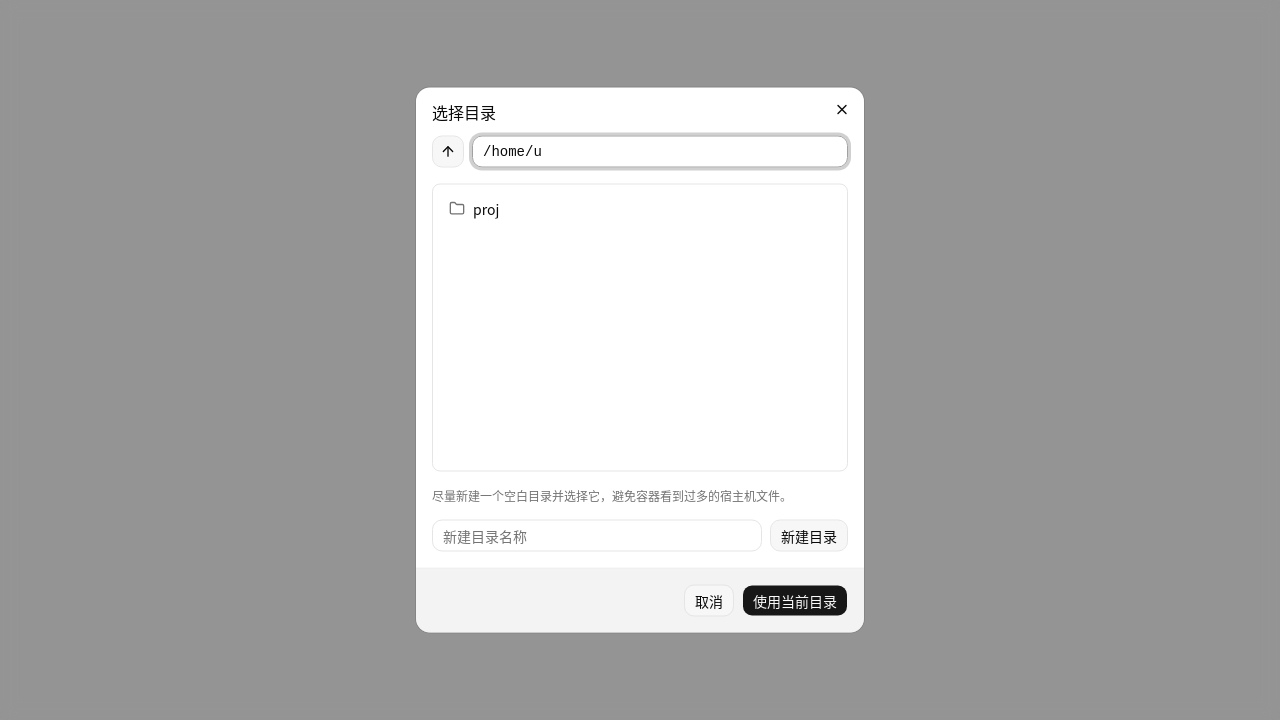
选择目录弹窗 › 在弹窗里点进一个不存在的目录仍然报错（不静默跳走）
Click the button "proj" at (457, 208), box [441,192,839,224]
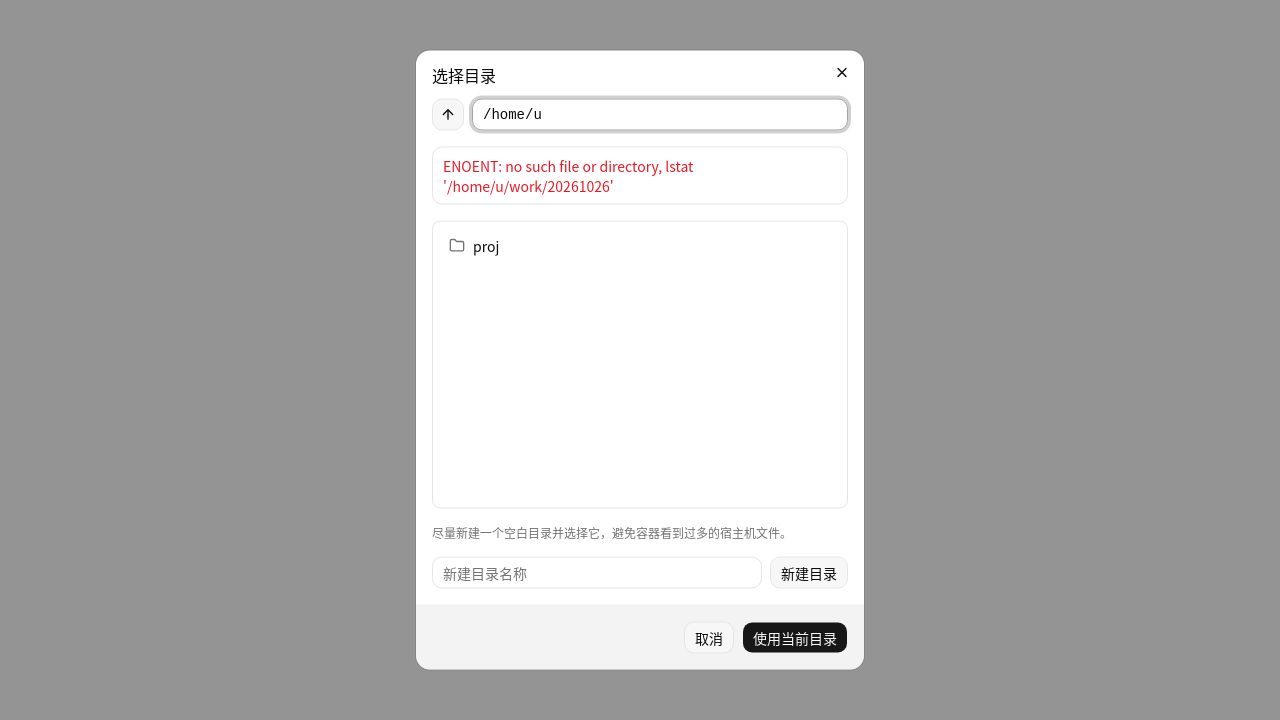
Check: the text "ENOENT" is shown, box [443,156,693,196]
